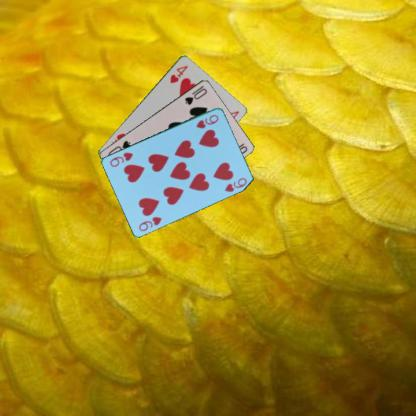10s: (182, 83, 209, 106)
4h: (167, 63, 189, 84)
9h: (136, 214, 163, 232), (194, 112, 220, 130)
